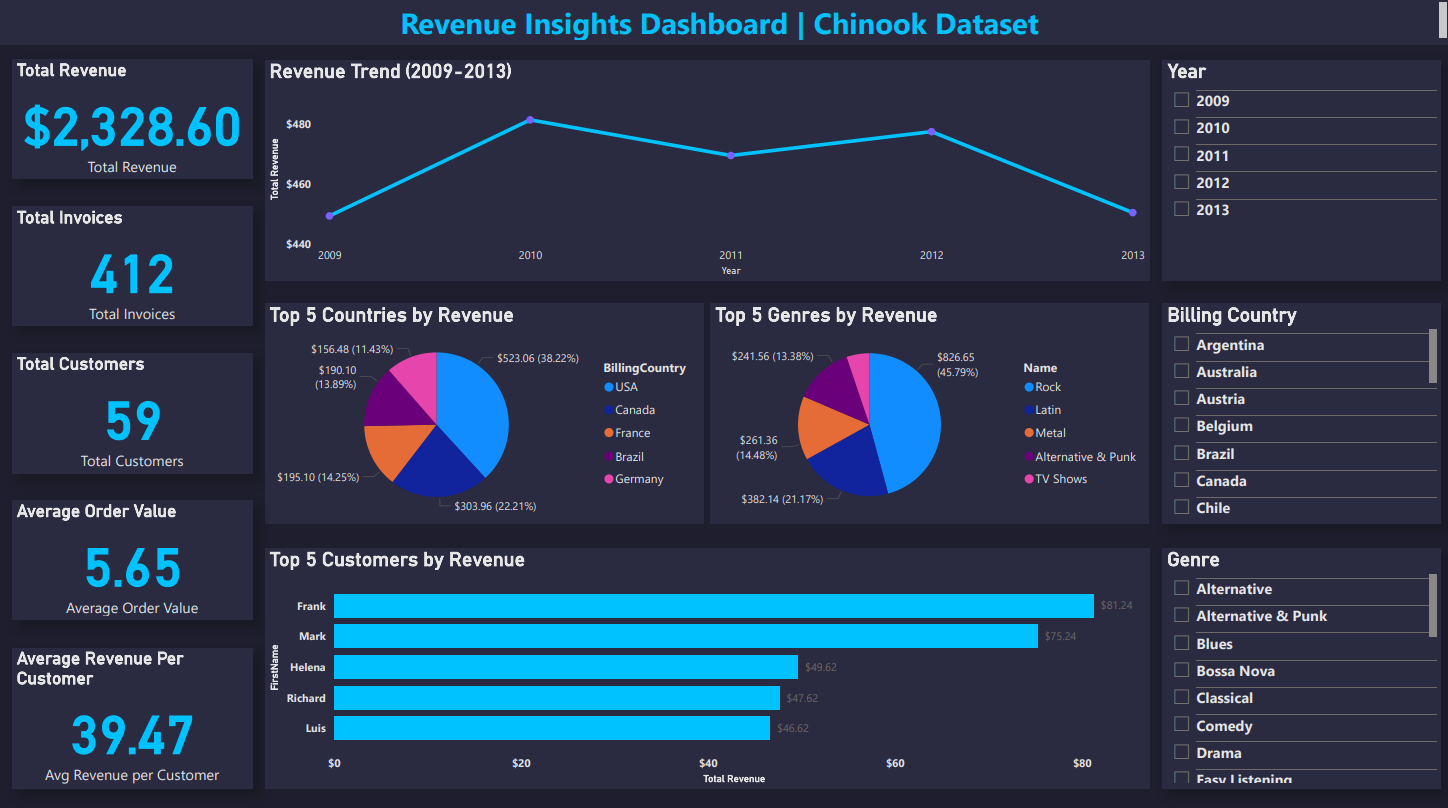

The page's visual inventory and layout, read from the dashboard file:
{"tool":"powerbi","page":{"name":"Page 1","canvas":[1600,900],"ordinal":0},"visuals":[{"type":"card","title":"Total Revenue","fields":{"Values":["Artist.Total Revenue"]},"box":[18.1,67.9,263.9,131.2],"z":0},{"type":"card","title":"Total Invoices","fields":{"Values":["Artist.Total Invoices"]},"box":[18.1,229.6,263.9,131.2],"z":1000},{"type":"card","title":"Total Customers","fields":{"Values":["Artist.Total Customers"]},"box":[18.1,391.3,263.9,131.2],"z":2000},{"type":"pieChart","title":"Top 5 Countries by Revenue","fields":{"Category":["Invoice.BillingCountry"],"Y":["Artist.Total Revenue"]},"box":[295.6,336.3,482.6,242.8],"z":3000},{"type":"textbox","box":[0,0,1600,51.3],"z":4000},{"type":"pieChart","title":"Top 5 Genres by Revenue","fields":{"Category":["Genre.Name"],"Y":["Artist.Total Revenue"]},"box":[785.7,336.3,482.6,242.8],"z":5000},{"type":"card","title":"Average Order Value","fields":{"Values":["Artist.Average Order Value"]},"box":[18.1,553.1,263.9,131.2],"z":6000},{"type":"card","title":"Average Revenue Per Customer","fields":{"Values":["Artist.Avg Revenue per Customer"]},"box":[18.1,714.8,263.9,155.3],"z":7000},{"type":"lineChart","title":"Revenue Trend (2009-2013)","fields":{"Category":["Invoice.InvoiceDate.Variation.Date Hierarchy.Year","Invoice.InvoiceDate.Variation.Date Hierarchy.Quarter","Invoice.InvoiceDate.Variation.Date Hierarchy.Month","Invoice.InvoiceDate.Variation.Date Hierarchy.Day"],"Y":["Artist.Total Revenue"]},"box":[295.6,67.9,972.7,242.8],"z":8000},{"type":"clusteredBarChart","title":"Top 5 Customers by Revenue","fields":{"Y":["Artist.Total Revenue"],"Category":["Customer.FirstName"]},"box":[295.6,604.7,972.7,265.4],"z":9000},{"type":"slicer","title":"Billing Country","fields":{"Values":["Invoice.BillingCountry"]},"box":[1283.4,336.3,306.1,242.8],"z":10000},{"type":"slicer","title":"Genre","fields":{"Values":["Genre.Name"]},"box":[1283.4,604.7,306.1,265.4],"z":11000},{"type":"card","title":"Total Profit","fields":{"Values":["Track.Profit"]},"box":[1283.4,67.9,316.7,242.8],"z":12000}]}

Visuals, with their boxes in screenshot pixels (x1, y1, x2, y2), scaled from the page's 1600x900 canvas onto the 1448x808 screenshot:
"Total Revenue" card: {"left": 16, "top": 61, "right": 255, "bottom": 179}
"Total Invoices" card: {"left": 16, "top": 206, "right": 255, "bottom": 324}
"Total Customers" card: {"left": 16, "top": 351, "right": 255, "bottom": 469}
"Top 5 Countries by Revenue" pieChart: {"left": 268, "top": 302, "right": 704, "bottom": 520}
textbox: {"left": 0, "top": 0, "right": 1447, "bottom": 46}
"Top 5 Genres by Revenue" pieChart: {"left": 711, "top": 302, "right": 1148, "bottom": 520}
"Average Order Value" card: {"left": 16, "top": 497, "right": 255, "bottom": 614}
"Average Revenue Per Customer" card: {"left": 16, "top": 642, "right": 255, "bottom": 781}
"Revenue Trend (2009-2013)" lineChart: {"left": 268, "top": 61, "right": 1148, "bottom": 279}
"Top 5 Customers by Revenue" clusteredBarChart: {"left": 268, "top": 543, "right": 1148, "bottom": 781}
"Billing Country" slicer: {"left": 1161, "top": 302, "right": 1438, "bottom": 520}
"Genre" slicer: {"left": 1161, "top": 543, "right": 1438, "bottom": 781}
"Total Profit" card: {"left": 1161, "top": 61, "right": 1447, "bottom": 279}
